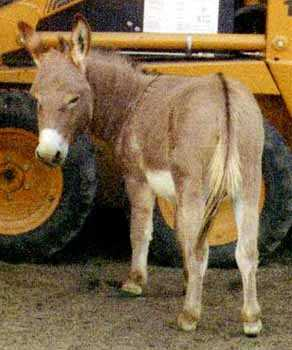donkey: (14, 15, 278, 333)
